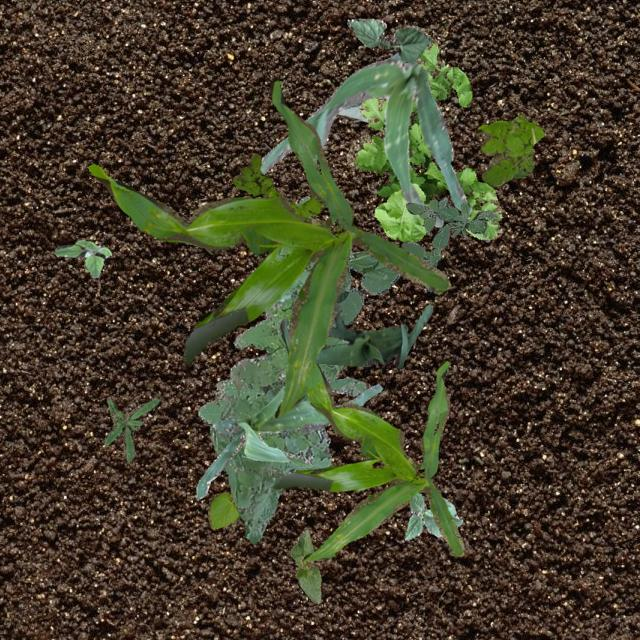crop: (86, 80, 450, 417), (272, 360, 462, 560), (258, 52, 471, 225), (196, 384, 382, 498), (279, 302, 432, 368), (330, 246, 400, 326), (346, 18, 429, 62), (404, 492, 462, 540), (288, 528, 320, 602), (207, 492, 240, 528), (337, 100, 368, 120)
weed: (198, 294, 366, 542), (346, 30, 502, 242), (400, 197, 498, 290), (232, 152, 322, 218), (269, 195, 317, 308), (477, 114, 542, 186), (102, 396, 158, 462), (54, 238, 110, 276)
